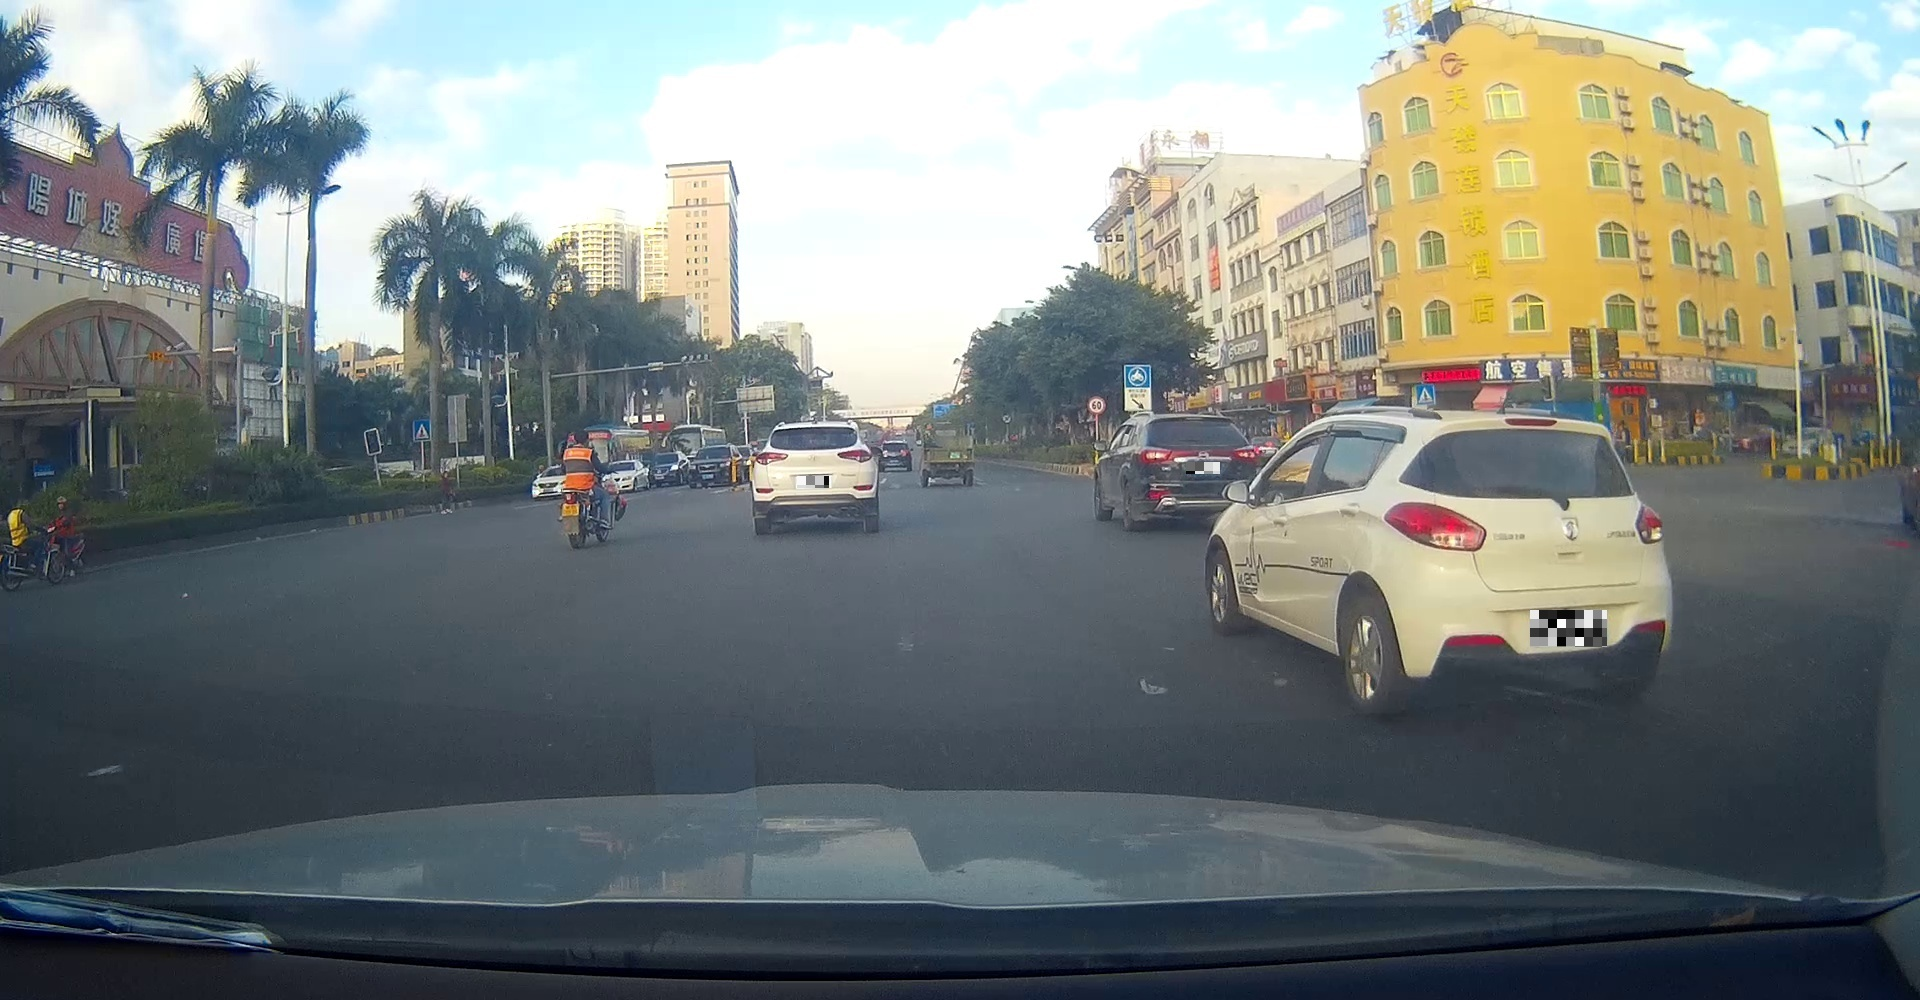L_light: (1382, 501, 1488, 552), (756, 451, 789, 466), (1142, 448, 1172, 463)
R_light: (1633, 503, 1663, 544), (837, 449, 872, 463), (1236, 445, 1256, 461)
T_light: (1503, 416, 1559, 426), (1183, 418, 1203, 423), (806, 428, 823, 431)
day-no: (1380, 412, 1672, 714), (1133, 412, 1258, 530), (753, 423, 877, 534)
plate_1: (797, 476, 829, 489)
plate_2: (1186, 462, 1220, 475)
plate_3: (1530, 610, 1608, 647)
